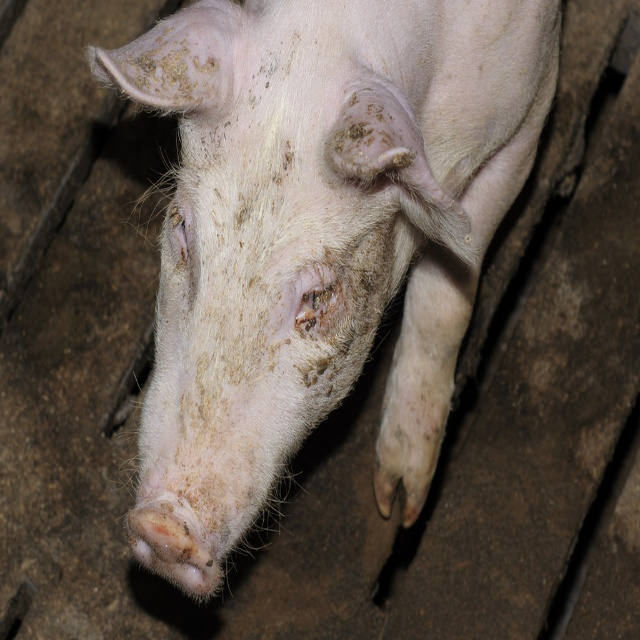Pig: (79, 0, 564, 606)
